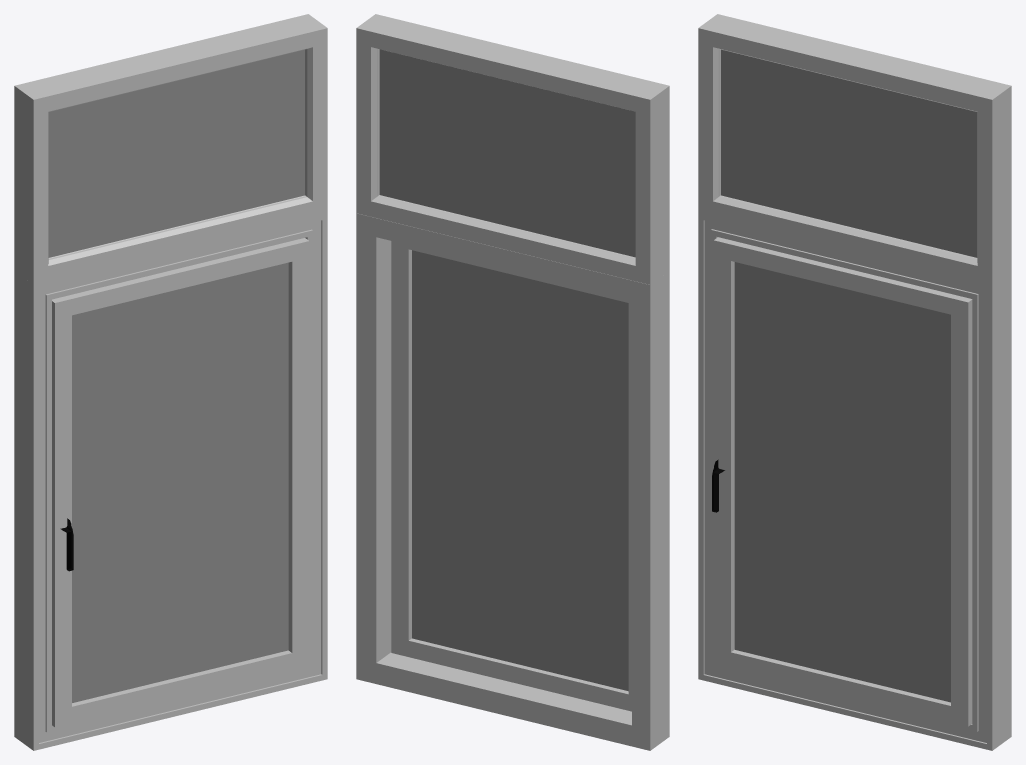
The model's file is Window 6.FBX.
3 views of the same model, side by side, from view 1: azimuth 30°, elevation 25°; view 2: azimuth 150°, elevation 25°; view 3: azimuth 330°, elevation 25° (orthographic).
Visible parts, largest first — view 1: window, window frame; view 2: window frame, window; view 3: window, window frame.
Part boxes in pixels (<box>): window: <box>52,238,309,727</box>; window frame: <box>14,14,327,750</box>; window frame: <box>356,14,669,750</box>; window: <box>391,241,631,711</box>; window: <box>712,237,972,726</box>; window frame: <box>698,14,1011,750</box>.
Size of the model in its own units: 99.75 by 211 by 17.69.
